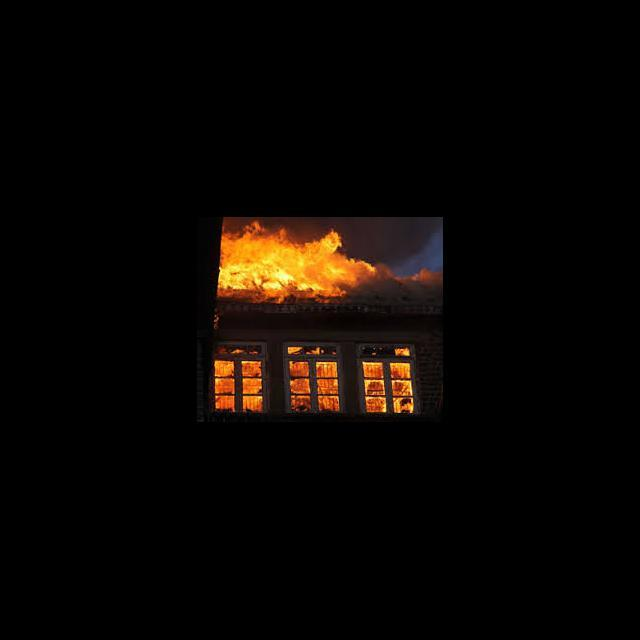Fire: (216, 218, 381, 302), (316, 361, 338, 378), (318, 396, 340, 412), (242, 397, 263, 413), (242, 379, 264, 394), (289, 361, 309, 377), (242, 362, 262, 378), (364, 362, 384, 378), (390, 363, 410, 379), (318, 379, 339, 394), (366, 398, 388, 412), (215, 396, 234, 412), (392, 382, 413, 396), (216, 378, 234, 394), (290, 396, 312, 409), (394, 399, 414, 413), (287, 346, 320, 354), (216, 362, 233, 377), (292, 380, 310, 394), (366, 382, 384, 396), (393, 348, 411, 356)
